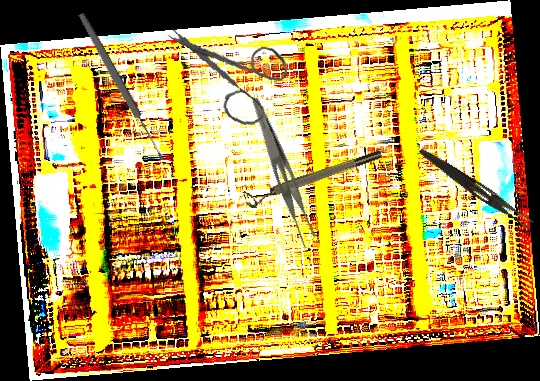Dressing Forceps: (235, 97, 326, 250), (414, 146, 537, 230)
Fixation Ring: (242, 147, 385, 211)
Iris Scissors: (165, 16, 293, 133)
Surgical Spoon: (76, 11, 167, 163)
